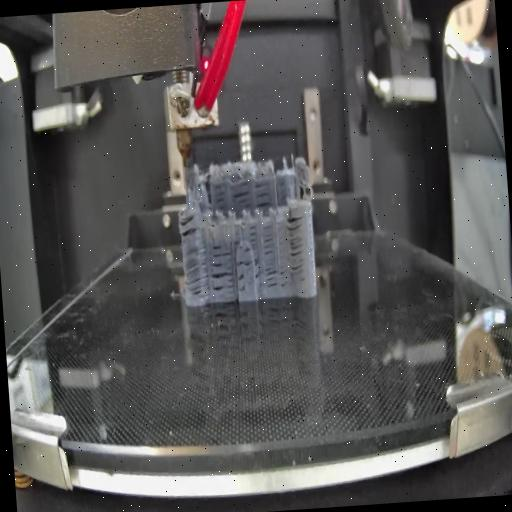cracks: (180, 244, 210, 298), (284, 213, 306, 274), (210, 260, 236, 300), (180, 210, 200, 238), (266, 264, 289, 288), (254, 182, 274, 209), (233, 186, 252, 208), (262, 226, 275, 256), (212, 184, 228, 208), (212, 241, 233, 259), (254, 256, 263, 284), (238, 256, 254, 268), (249, 223, 258, 243), (233, 226, 241, 248), (238, 273, 246, 295), (242, 243, 252, 255)
